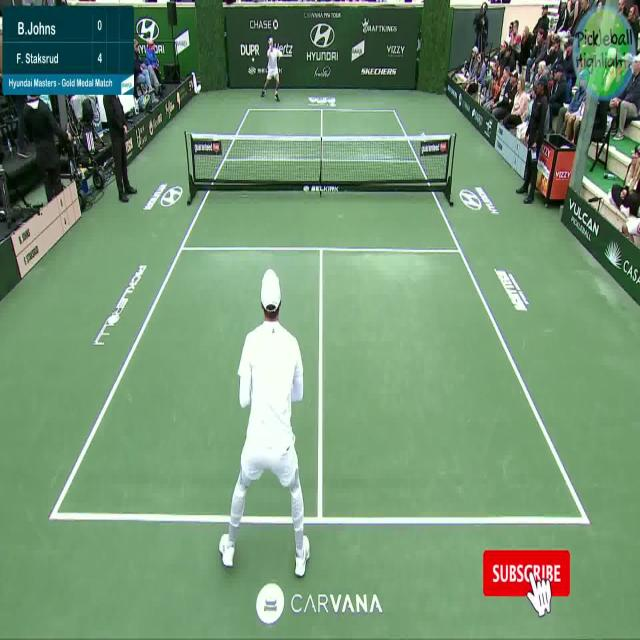ball: (249, 46, 261, 71)
